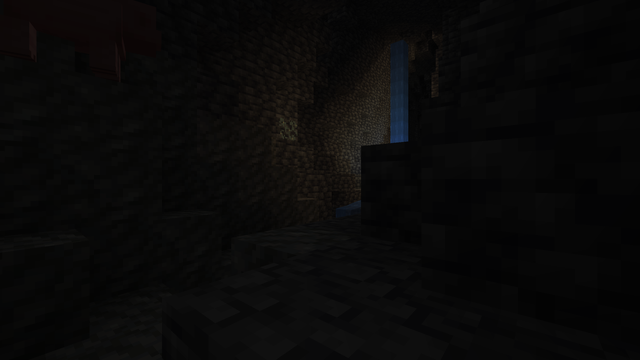cochons: (19, 1, 126, 81)
